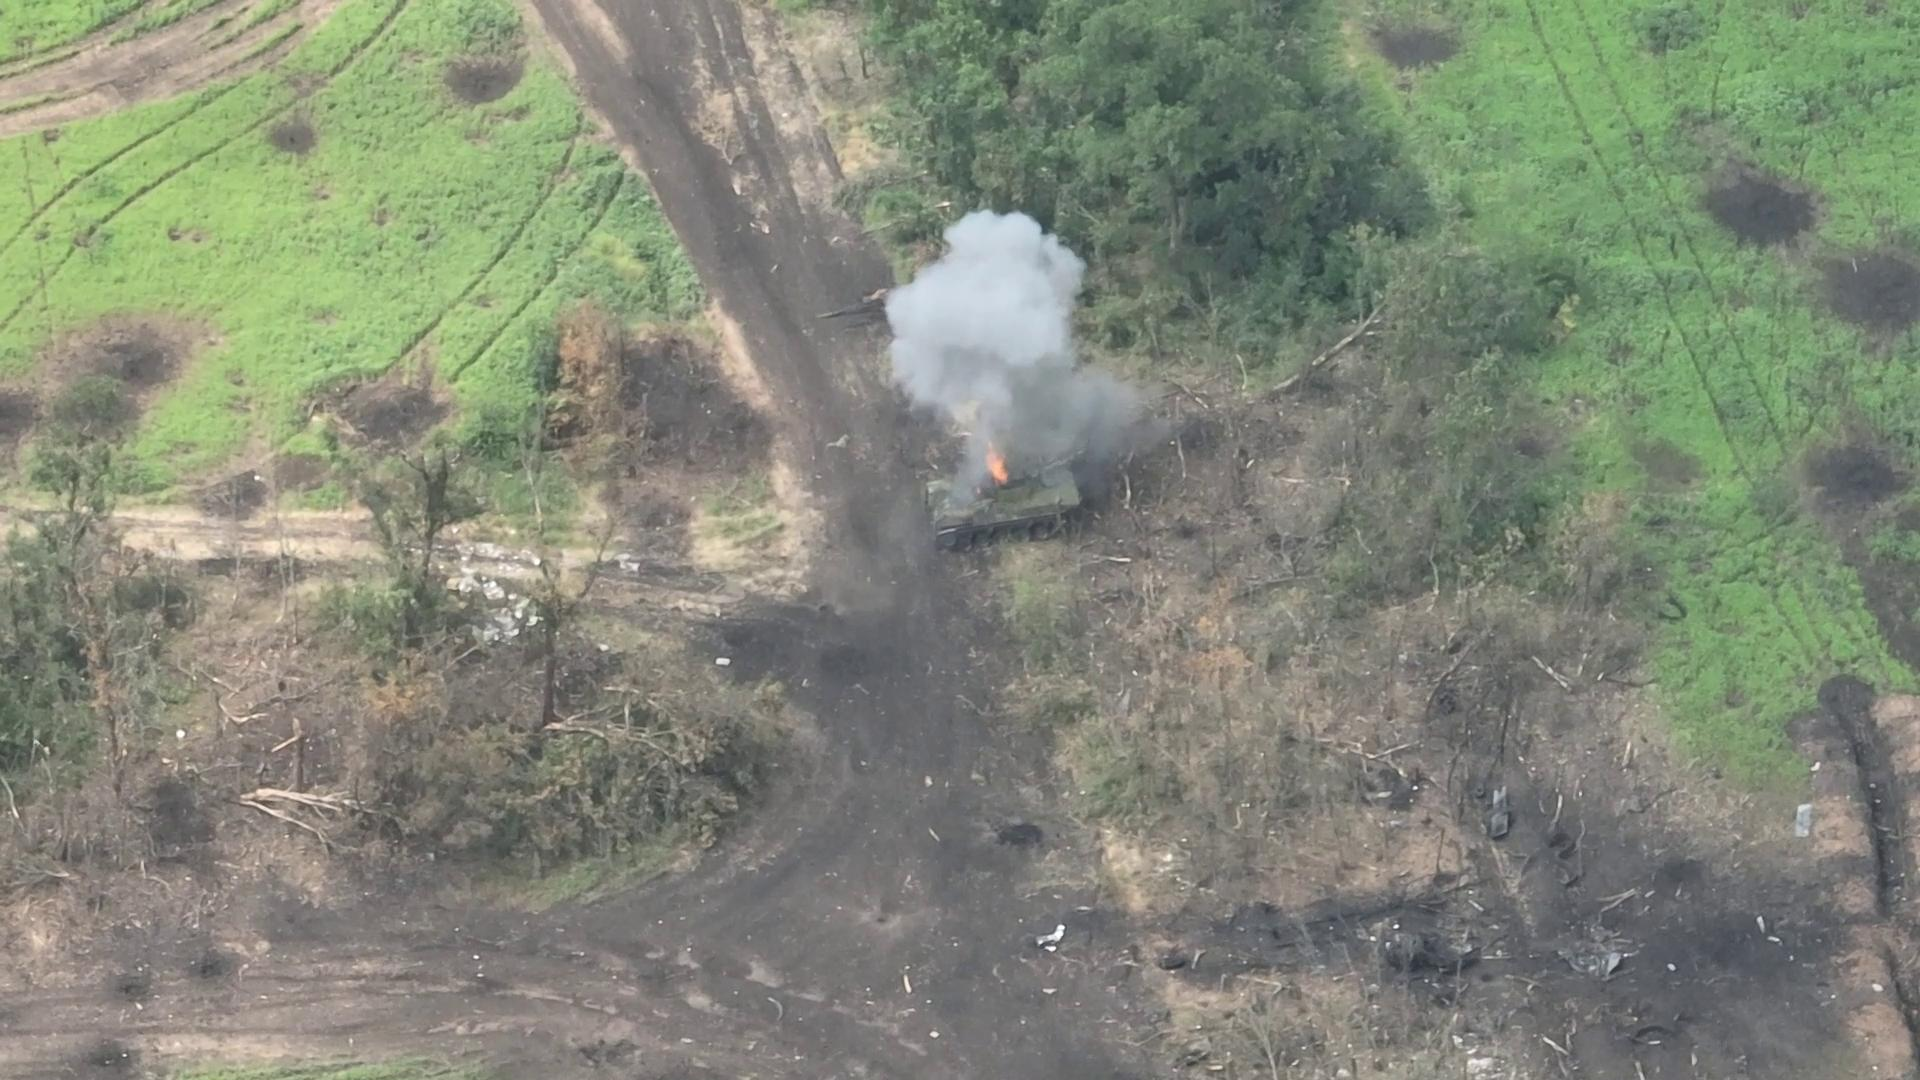tank: (922, 447, 1092, 554)
